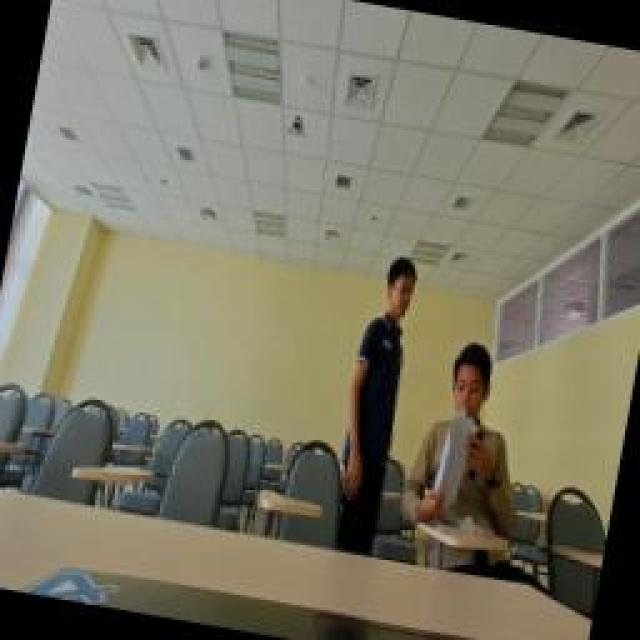study: (400, 328, 535, 538)
